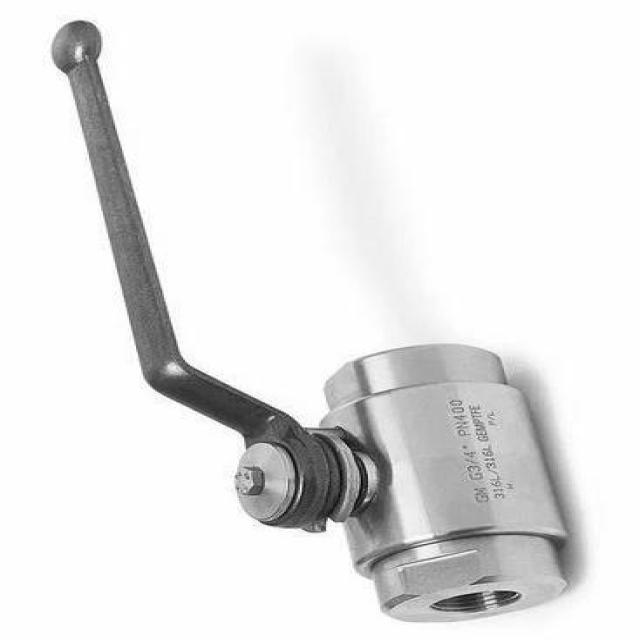opened_valve: (48, 17, 573, 626)
